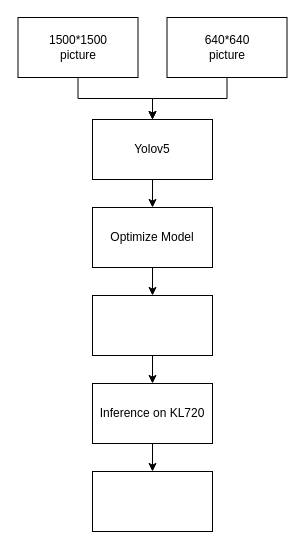
This 304x549 diagram has some shape labels left out. The centre of each missing label's shape, as x and y in pixels:
Convert Model to NEF: (x=152, y=325)
Speed Result: (x=152, y=501)
